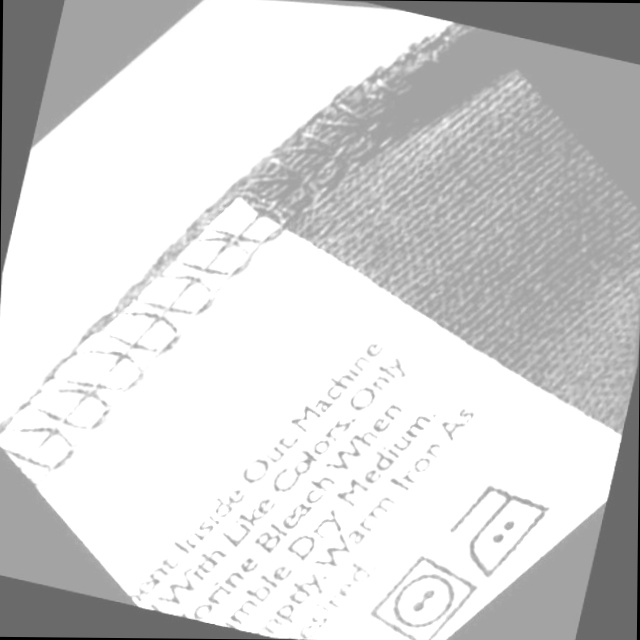iron_medium: (432, 463, 575, 598)
tumble_dry_medium: (354, 534, 499, 640)
